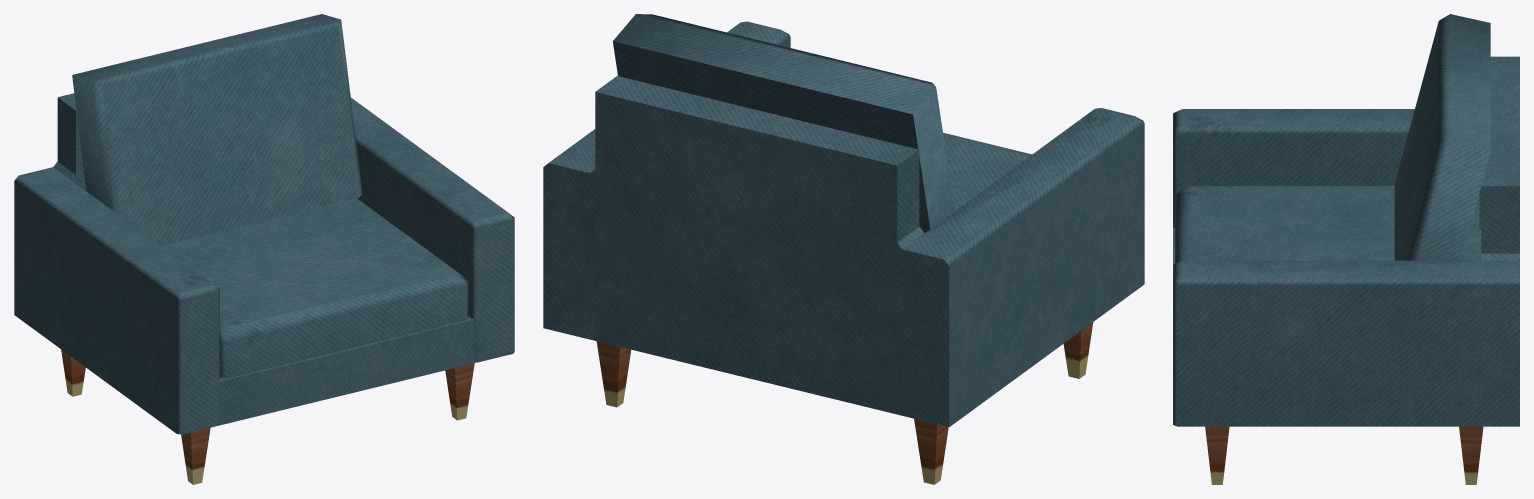
Rendered from Armchair.glb.
3 renders of one model, left to right at view 1: azimuth 30°, elevation 25°; view 2: azimuth 150°, elevation 25°; view 3: azimuth 270°, elevation 25°, orthographic. The views are drawn at different scales.
Visible parts, largest first — view 1: armchair1; view 2: armchair1; view 3: armchair1.
Boxes of the visible parts, x1,y1,x2,y2 form: armchair1: (14, 14, 514, 484); armchair1: (543, 14, 1144, 484); armchair1: (1173, 14, 1519, 484).
Bounding box in the file's own units: 1.33 × 1.2 × 1.12.
Materials: 1 (1 with a texture image).
